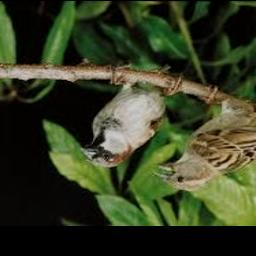Sparrow: (152, 85, 256, 191), (79, 66, 182, 168)
